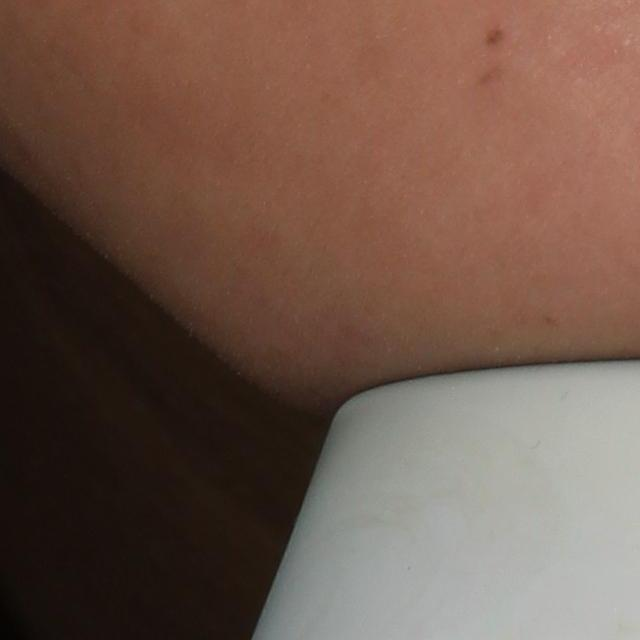nevus: (483, 22, 504, 47)
